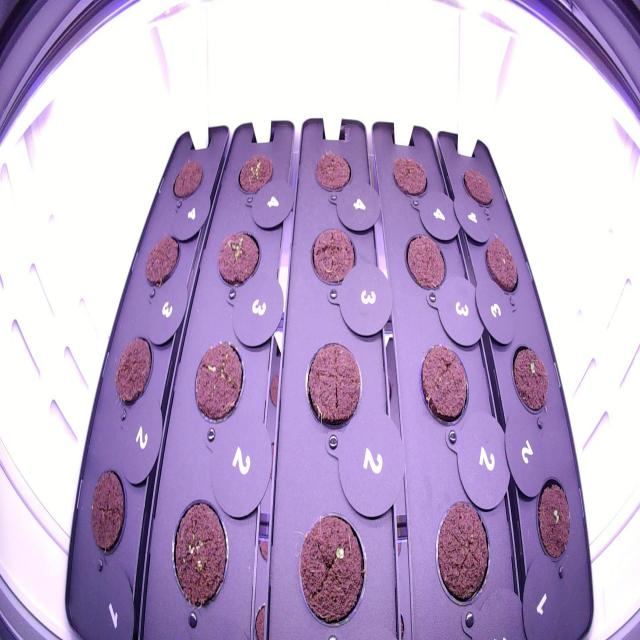germination: (532, 470, 574, 570), (506, 338, 555, 422)
pod: (294, 505, 371, 633), (164, 492, 234, 618), (428, 494, 495, 614), (300, 336, 368, 436), (412, 336, 472, 433), (189, 332, 249, 426), (83, 464, 134, 564), (109, 328, 157, 415), (304, 223, 362, 294), (400, 226, 450, 303), (213, 222, 264, 295), (140, 230, 183, 298), (480, 230, 521, 299), (387, 149, 432, 207), (233, 147, 277, 204), (310, 144, 355, 196), (457, 160, 498, 216), (166, 152, 208, 206)
